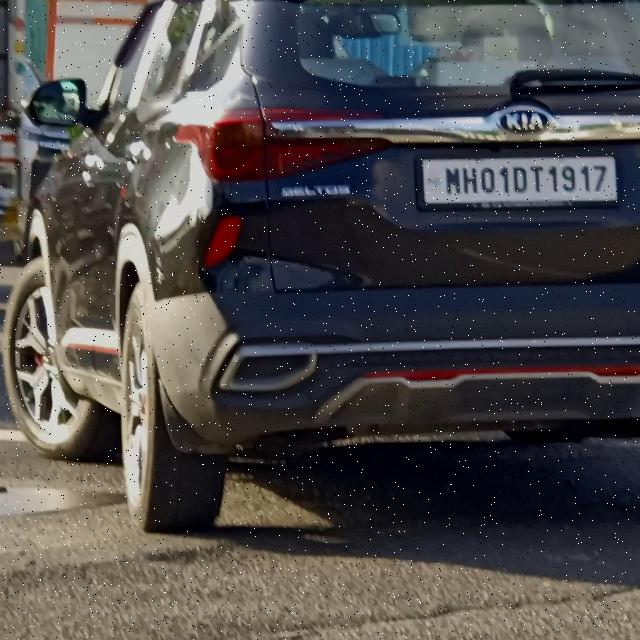plate: (415, 153, 619, 209)
